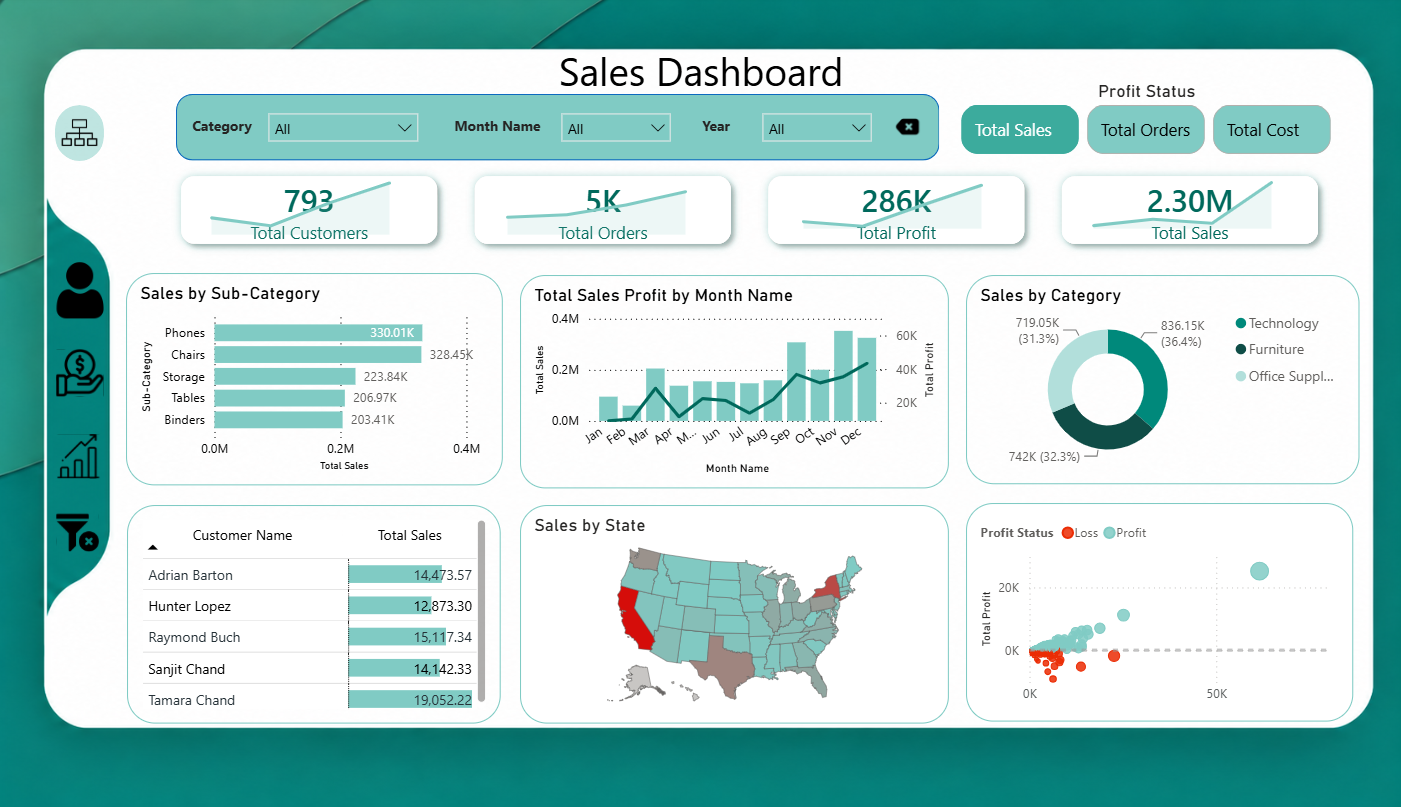

The page's visual inventory and layout, read from the dashboard file:
{"tool":"powerbi","page":{"name":"view","canvas":[1280,720],"ordinal":0},"visuals":[{"type":"shape","box":[0,0.9,1280.4,83.3],"z":0},{"type":"shape","box":[15.1,518.7,393.8,186.6],"z":1000},{"type":"shape","box":[409,533.2,392.8,186.7],"z":2000},{"type":"shape","box":[837.1,517.3,430.9,188],"z":3000},{"type":"shape","box":[849,273.4,431,234.5],"z":4000},{"type":"shape","box":[261.2,271.8,574.1,235.3],"z":5000},{"type":"shape","box":[963.8,139.2,289.1,112.6],"z":6000},{"type":"shape","box":[648.2,140.1,304.1,111.7],"z":7000},{"type":"shape","box":[323.2,139.7,314.3,111.7],"z":8000},{"type":"shape","box":[0,137.2,314.2,111.1],"z":9000},{"type":"cardVisual","fields":{"Data":["Measuress.Total Sales"]},"box":[64.7,146.3,196.8,95.8],"z":10000},{"type":"cardVisual","fields":{"Data":["Measuress.Total Orders"]},"box":[696.1,146.3,188.9,102],"z":11000},{"type":"cardVisual","fields":{"Data":["Measuress.Total Profit"]},"box":[376.8,145.4,196,103.7],"z":12000},{"type":"cardVisual","fields":{"Data":["Measuress.Total Customers"]},"box":[1003.7,141,209.3,100.2],"z":13000},{"type":"lineClusteredColumnComboChart","fields":{"Y":["Measuress.Total Sales"],"Y2":["Measuress.Total Profit"],"Category":["DimDate.Month Name"]},"box":[865,294.3,403.1,192.5],"z":14000},{"type":"tableEx","fields":{"Values":["Measuress.Total Profit","Measuress.Total Sales","FactSales.Customer Name"]},"box":[869.8,520.1,393.1,186.5],"z":15000},{"type":"clusteredBarChart","fields":{"Category":["FactSales.Sub-Category"],"Y":["Measuress.Total Sales"]},"box":[23.2,529.6,376.2,167.4],"z":18000},{"type":"shape","box":[0,87.8,1280.4,39],"z":20000},{"type":"actionButton","box":[39.3,356.1,181.6,40.3],"z":21000},{"type":"actionButton","box":[39.3,408.5,181.6,40.3],"z":22000},{"type":"decompositionTreeVisual","fields":{"Analyze":["Measuress.Total Profit"],"ExplainBy":["FactSales.State"]},"box":[278.4,281.1,538.2,205.7],"z":23000},{"type":"textbox","box":[441.6,0.9,487.7,77.1],"z":24000},{"type":"slicer","fields":{"Values":["Orders.Category"]},"box":[626,88.7,164.9,38.1],"z":25000},{"type":"textbox","box":[557.5,91.2,79.6,30.2],"z":26000},{"type":"slicer","fields":{"Values":["Orders.Category"]},"box":[864.5,87.8,118.8,38.1],"z":27000},{"type":"textbox","box":[793.4,91.2,79.6,30.2],"z":28000},{"type":"slicer","fields":{"Values":["Orders.Category"]},"box":[1066.7,86.9,164.9,53.2],"z":29000},{"type":"textbox","box":[1003.7,91.2,48,30.2],"z":30000},{"type":"cardVisual","fields":{"Data":["Measuress.Total Orders"]},"box":[44.5,144.3,216.9,97.8],"z":31000}]}

Visuals, with their boxes in screenshot pixels (x1, y1, x2, y2), scaled from the page's 1280x720 canvas onto the 1401x807 screenshot:
shape: Rect(0, 1, 1400, 94)
shape: Rect(17, 581, 448, 791)
shape: Rect(448, 598, 878, 806)
shape: Rect(916, 580, 1388, 791)
shape: Rect(929, 306, 1400, 569)
shape: Rect(286, 305, 914, 568)
shape: Rect(1055, 156, 1371, 282)
shape: Rect(709, 157, 1042, 282)
shape: Rect(354, 157, 698, 282)
shape: Rect(0, 154, 344, 278)
cardVisual - Measuress.Total Sales: Rect(71, 164, 286, 271)
cardVisual - Measuress.Total Orders: Rect(762, 164, 969, 278)
cardVisual - Measuress.Total Profit: Rect(412, 163, 627, 279)
cardVisual - Measuress.Total Customers: Rect(1099, 158, 1328, 270)
lineClusteredColumnComboChart - Measuress.Total Sales x Measuress.Total Profit: Rect(947, 330, 1388, 546)
tableEx - Measuress.Total Profit x Measuress.Total Sales: Rect(952, 583, 1382, 792)
clusteredBarChart - FactSales.Sub-Category x Measuress.Total Sales: Rect(25, 594, 437, 781)
shape: Rect(0, 98, 1400, 142)
actionButton: Rect(43, 399, 242, 444)
actionButton: Rect(43, 458, 242, 503)
decompositionTreeVisual - Measuress.Total Profit x FactSales.State: Rect(305, 315, 894, 546)
textbox: Rect(483, 1, 1017, 87)
slicer - Orders.Category: Rect(685, 99, 866, 142)
textbox: Rect(610, 102, 697, 136)
slicer - Orders.Category: Rect(946, 98, 1076, 141)
textbox: Rect(868, 102, 956, 136)
slicer - Orders.Category: Rect(1168, 97, 1348, 157)
textbox: Rect(1099, 102, 1151, 136)
cardVisual - Measuress.Total Orders: Rect(49, 162, 286, 271)
